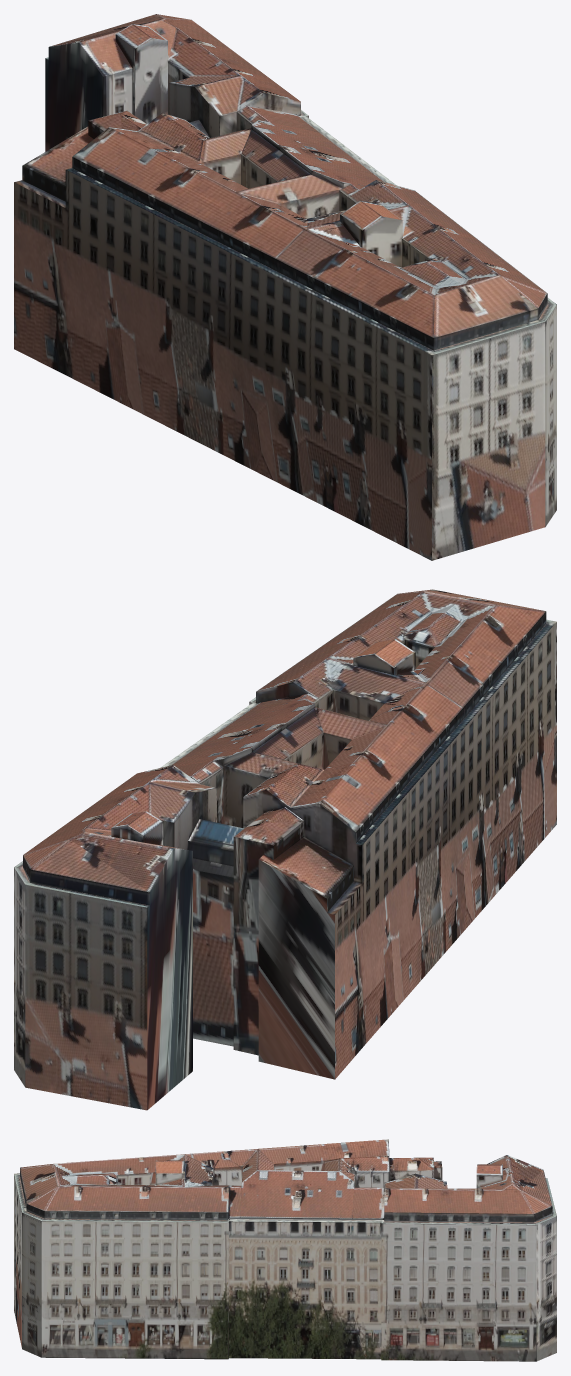
3 views of the same model, one above another, from view 1: azimuth 30°, elevation 25°; view 2: azimuth 150°, elevation 25°; view 3: azimuth 270°, elevation 25° (orthographic). The views are drawn at different scales.
Parts seen in each view (by area): view 1: Z_UP; view 2: Z_UP; view 3: Z_UP.
Boxes of the visible parts, left/top/right/bottom form: Z_UP: left=14, top=14, right=556, bottom=560; Z_UP: left=14, top=589, right=556, bottom=1110; Z_UP: left=14, top=1139, right=556, bottom=1361.
Bounding box in the file's own units: 31.26 × 29.66 × 86.95.
Materials: 2 (1 with a texture image).
